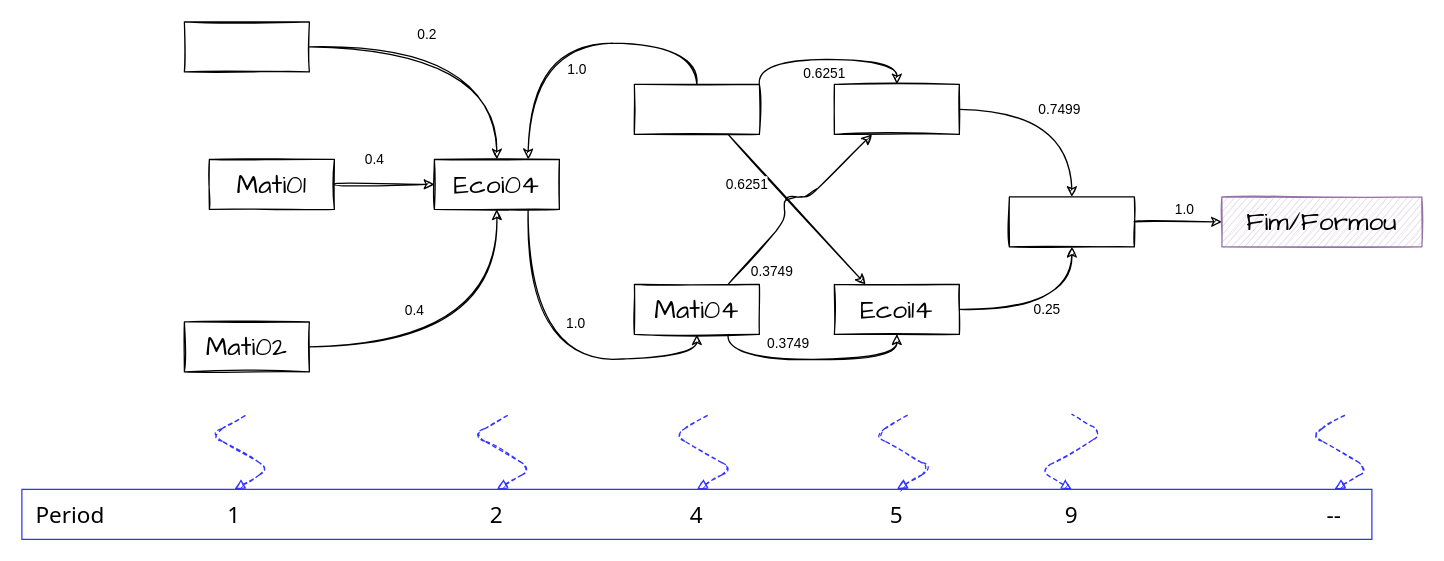
This 1444x561 diagram has some shape labels left out. Here are the shapes that lost their labels. From the top down, the centre of each, then its label:
pixel 246 46: Humi01
pixel 696 108: Ecoi09
pixel 896 108: Ecoi11
pixel 1071 221: Ecoi25
